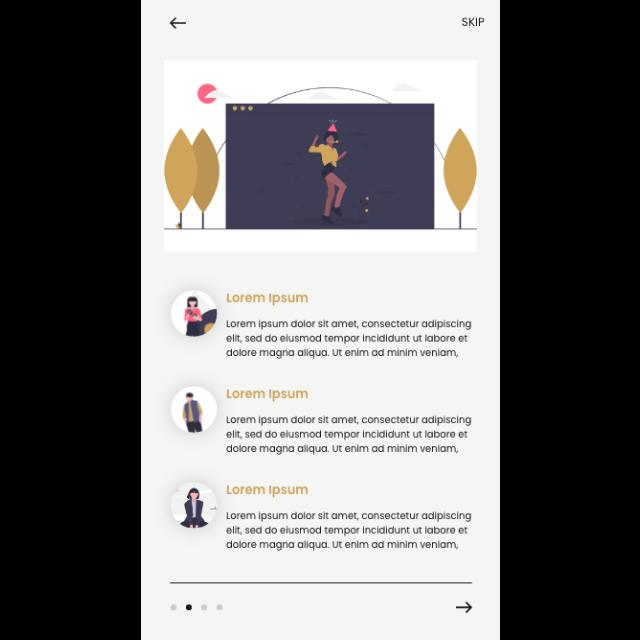icon: (456, 600, 472, 614), (168, 18, 186, 30)
image: (164, 61, 476, 252), (170, 290, 218, 338), (170, 386, 218, 434), (170, 483, 218, 529)
pageindicator: (170, 604, 223, 610)
text: (226, 414, 472, 456), (226, 511, 472, 552), (224, 320, 472, 360), (226, 293, 308, 307), (227, 389, 309, 403), (226, 485, 308, 499), (461, 18, 484, 28)
